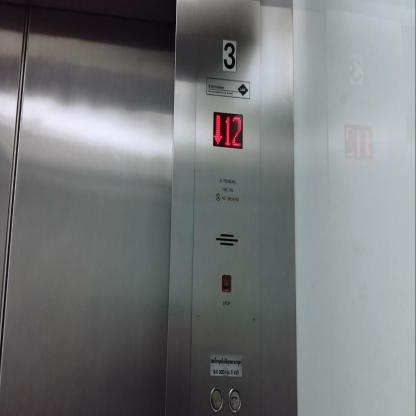alarm: (209, 384, 224, 412)
bt_switch: (220, 272, 232, 294)
call: (227, 386, 242, 414)
led: (212, 108, 243, 150)
